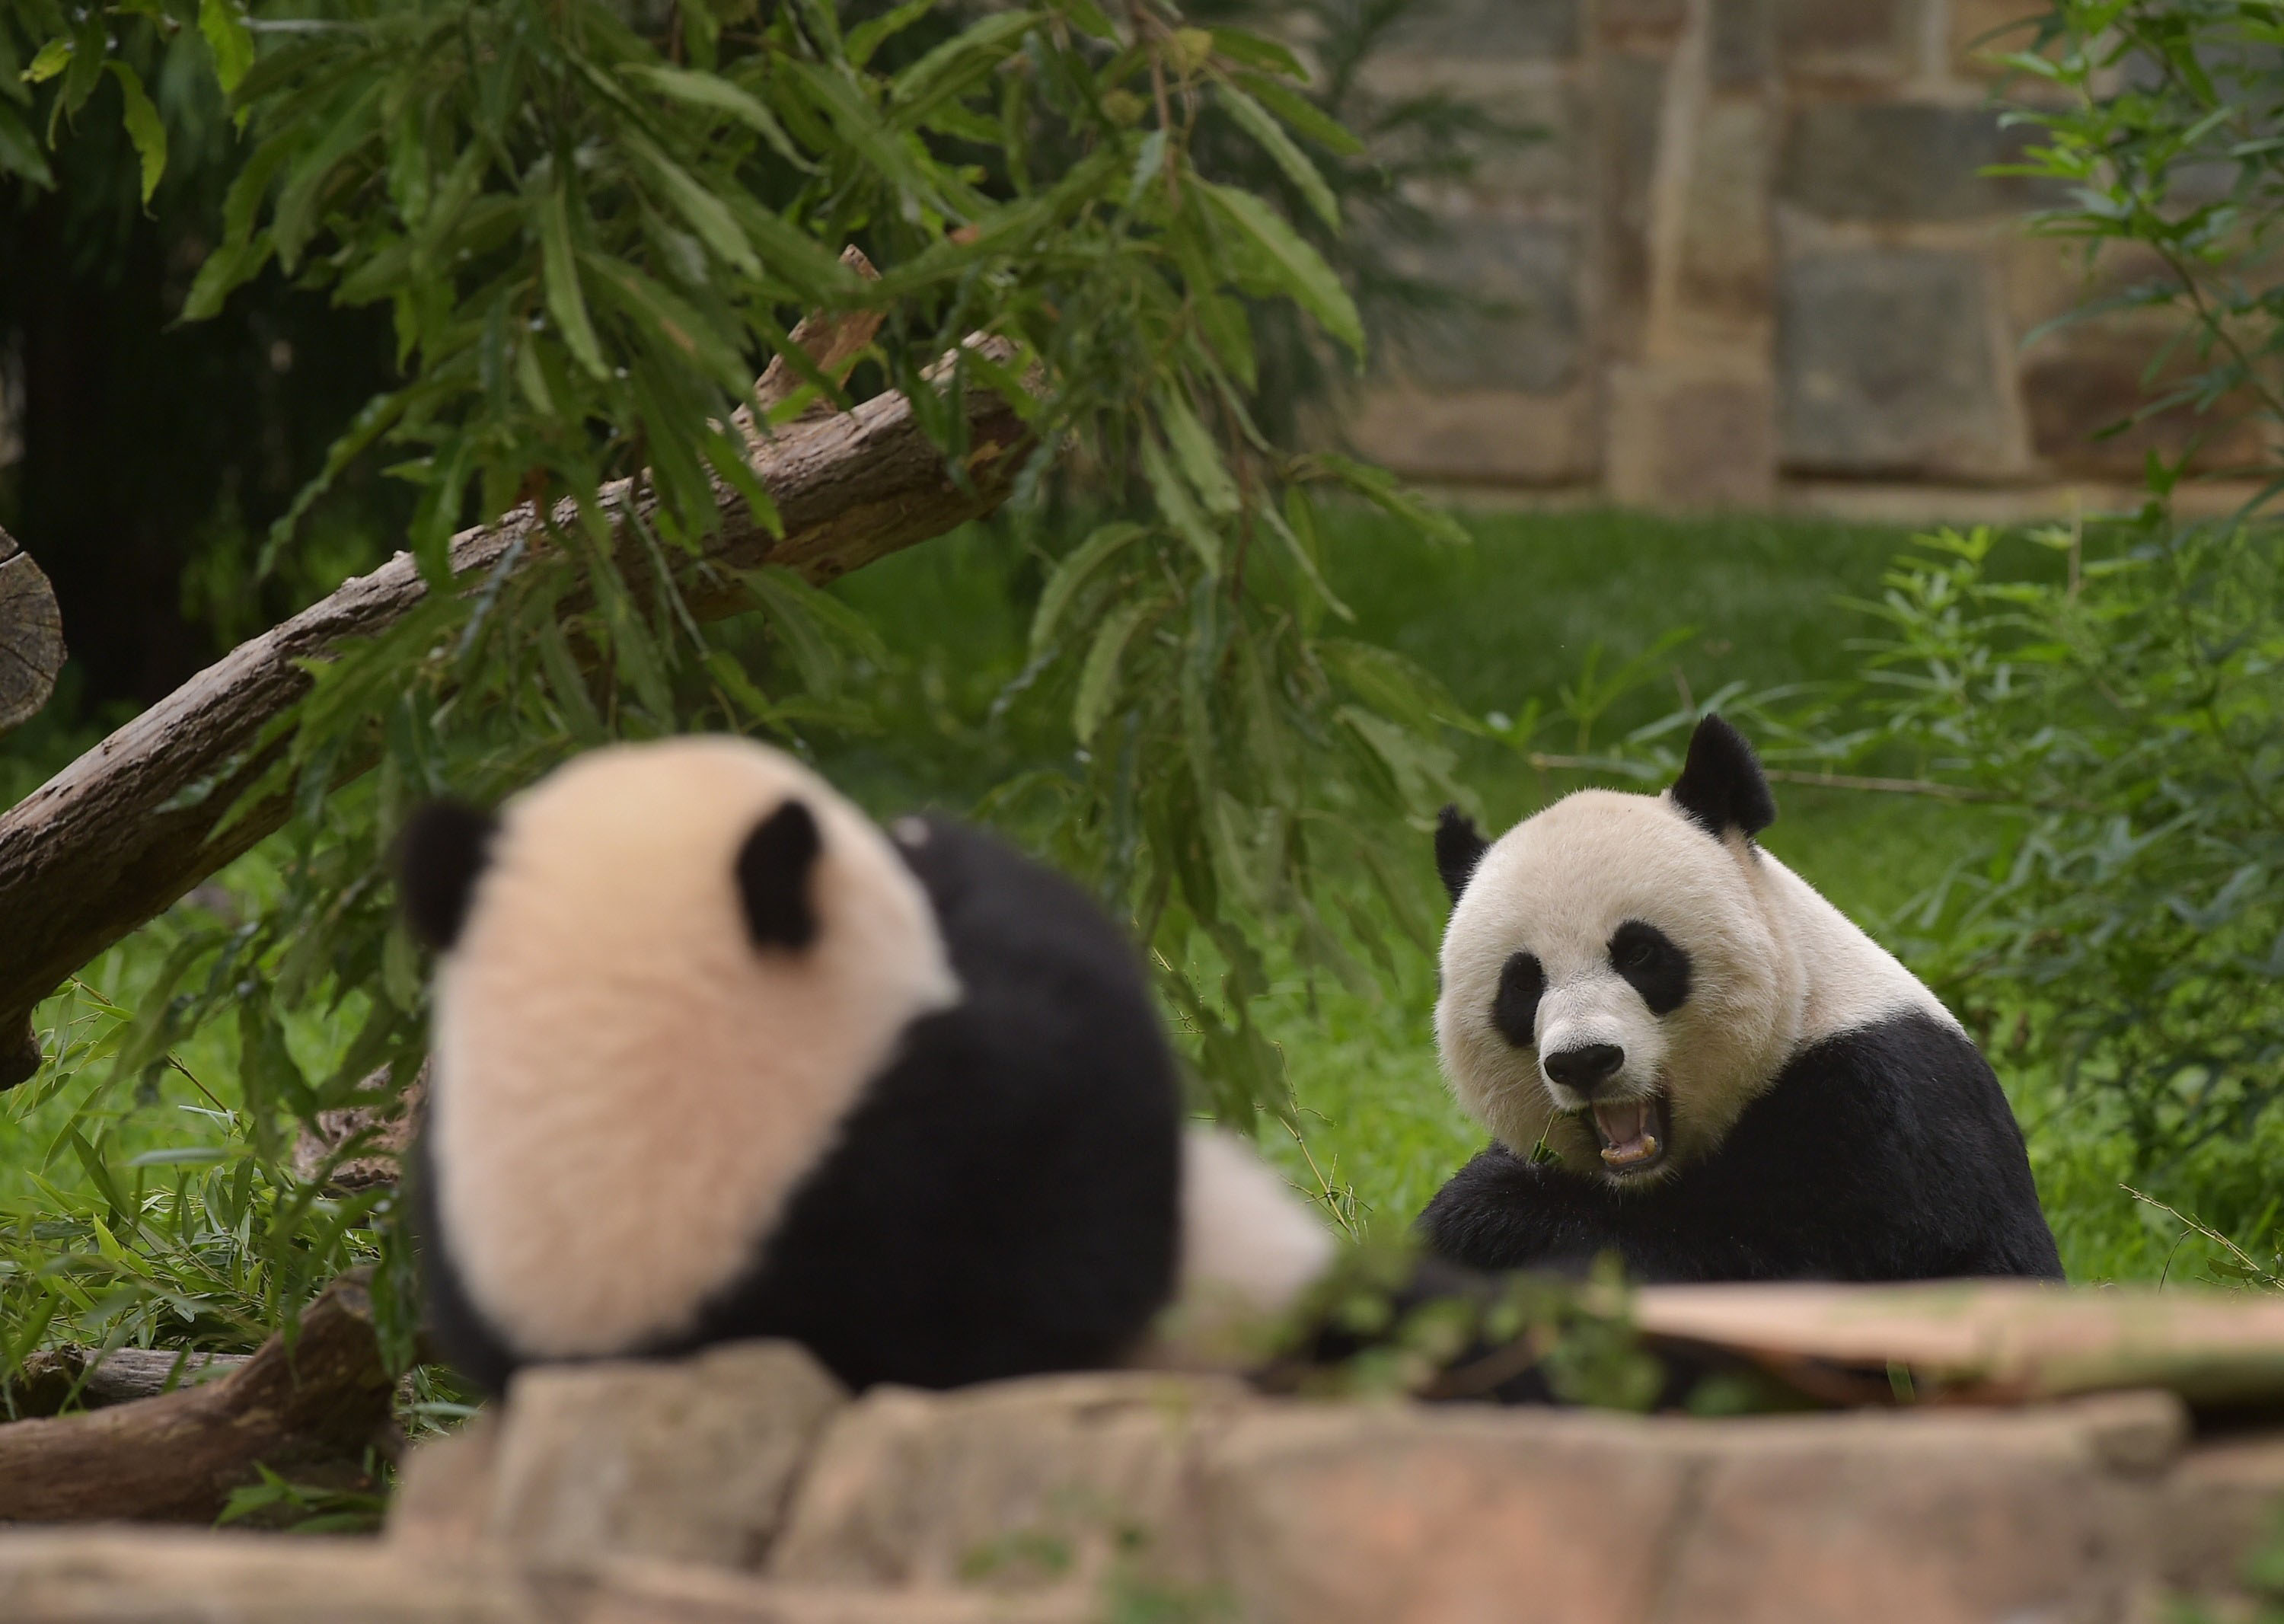panda: (351, 687, 1360, 1359), (1270, 707, 2024, 1482)
